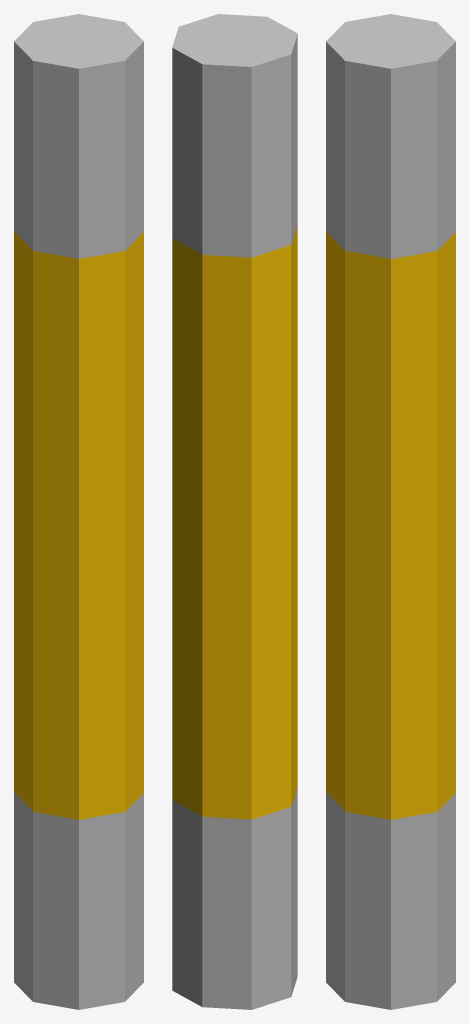
File: TwoColouredPillar.glb
3 renders of one model, left to right at view 1: azimuth 90°, elevation 25°; view 2: azimuth 150°, elevation 25°; view 3: azimuth 270°, elevation 25°, orthographic.
Visible parts, largest first — view 1: pillar_twoTone; view 2: pillar_twoTone; view 3: pillar_twoTone.
Boxes of the visible parts, <box> form: pillar_twoTone: <box>14,14,143,1009</box>; pillar_twoTone: <box>172,14,297,1009</box>; pillar_twoTone: <box>326,14,455,1009</box>.
Size of what is drawn, in the model's own units: 0.5 by 4 by 0.5.
Materials: 1 (1 with a texture image).
